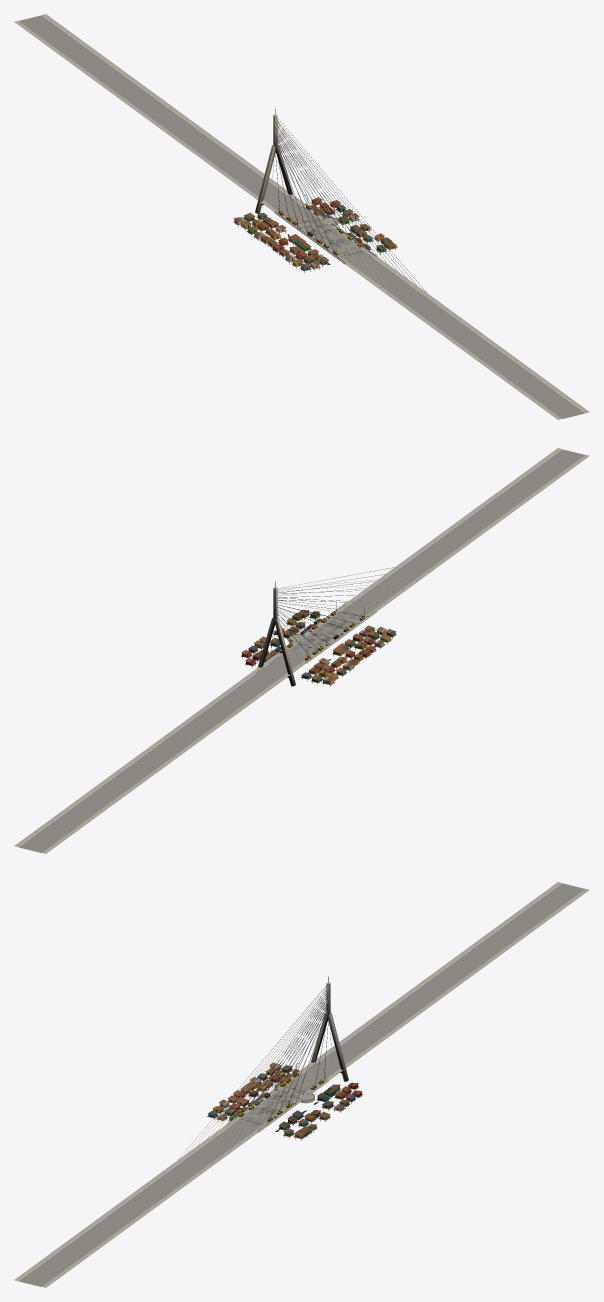
Rendered from lugar-lagos.glb.
The picture shows the model from 3 angles, top to bottom: view 1: azimuth 30°, elevation 25°; view 2: azimuth 150°, elevation 25°; view 3: azimuth 330°, elevation 25°; orthographic projection.
Visible parts, largest first — view 1: luzG-cerca, vert-cerca, luzS-pista; view 2: luzG-cerca, vert-cerca, luzS-pista; view 3: luzG-cerca, vert-cerca, luzS-pista.
Part boxes in pixels (left/top/right/bottom): luzG-cerca: left=14, top=14, right=589, bottom=419; vert-cerca: left=233, top=108, right=426, bottom=299; luzS-pista: left=274, top=204, right=376, bottom=264; luzG-cerca: left=14, top=448, right=589, bottom=853; vert-cerca: left=241, top=567, right=426, bottom=686; luzS-pista: left=274, top=603, right=376, bottom=663; luzG-cerca: left=14, top=882, right=589, bottom=1287; vert-cerca: left=177, top=976, right=362, bottom=1167; luzS-pista: left=227, top=1072, right=329, bottom=1132.
Size of what is drawn, in the model's own units: 76.47 by 75.34 by 740.
Materials: 9 (8 with a texture image).
